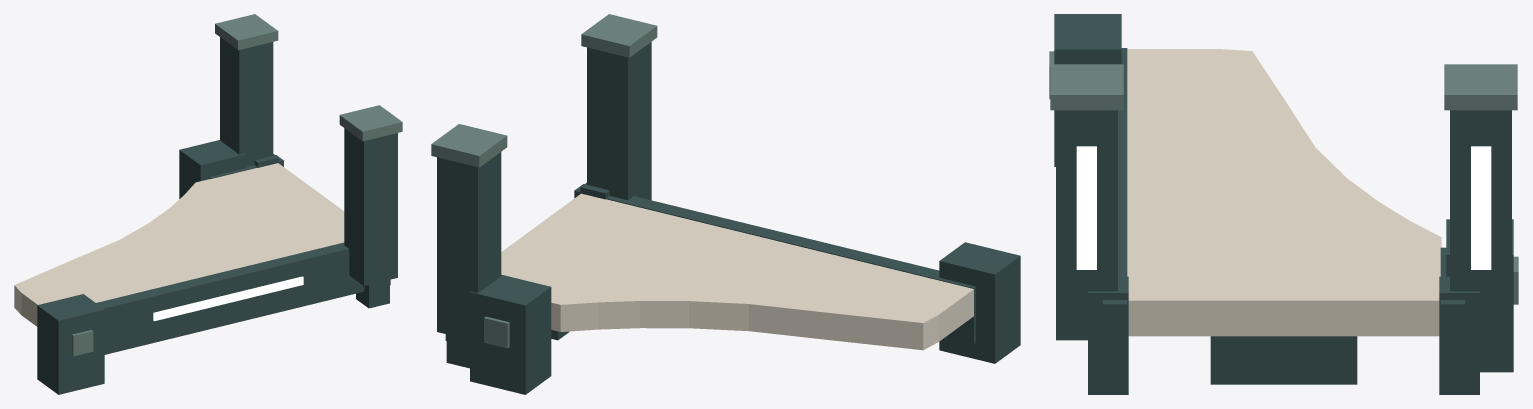
The model's file is Pier_Angled_80_Switch_lab.glb.
3 views of the same model, side by side, from view 1: azimuth 30°, elevation 25°; view 2: azimuth 150°, elevation 25°; view 3: azimuth 270°, elevation 25° (orthographic). The views are drawn at different scales.
Visible parts, largest first — view 1: Pier_Angled_80_Switch; view 2: Pier_Angled_80_Switch; view 3: Pier_Angled_80_Switch.
Boxes of the visible parts, x1=… form: Pier_Angled_80_Switch: x1=14, y1=14, x2=402, y2=394; Pier_Angled_80_Switch: x1=431, y1=14, x2=1020, y2=394; Pier_Angled_80_Switch: x1=1049, y1=14, x2=1518, y2=394.
Size of the model in its own units: 5.64 by 2.95 by 4.17.
